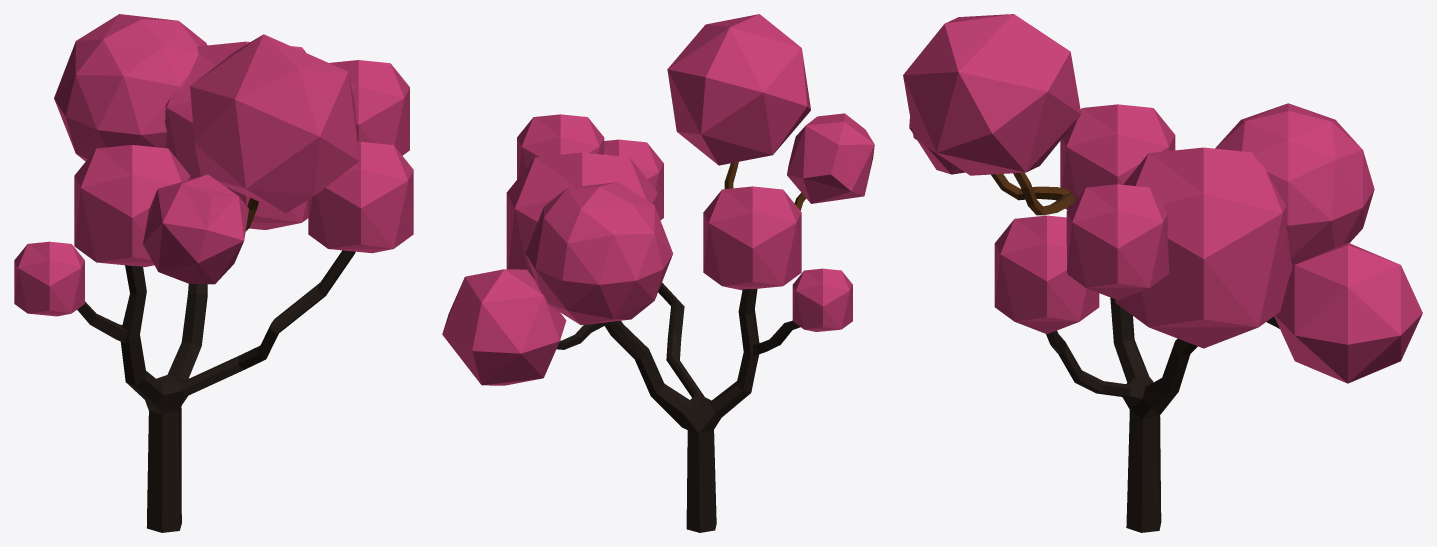
Rendered from arbolbienuvs.FBX.
3 views of the same model, side by side, from view 1: azimuth 30°, elevation 25°; view 2: azimuth 150°, elevation 25°; view 3: azimuth 270°, elevation 25° (orthographic). The views are drawn at different scales.
Parts seen in each view (by area): view 1: Tree 2; view 2: Tree 2; view 3: Tree 2.
Part boxes in pixels (x1,y1,x2,y2): Tree 2: [14, 14, 413, 532]; Tree 2: [442, 14, 874, 532]; Tree 2: [903, 14, 1422, 532].
Bounding box in the file's own units: 50.22 × 65.14 × 58.17.
